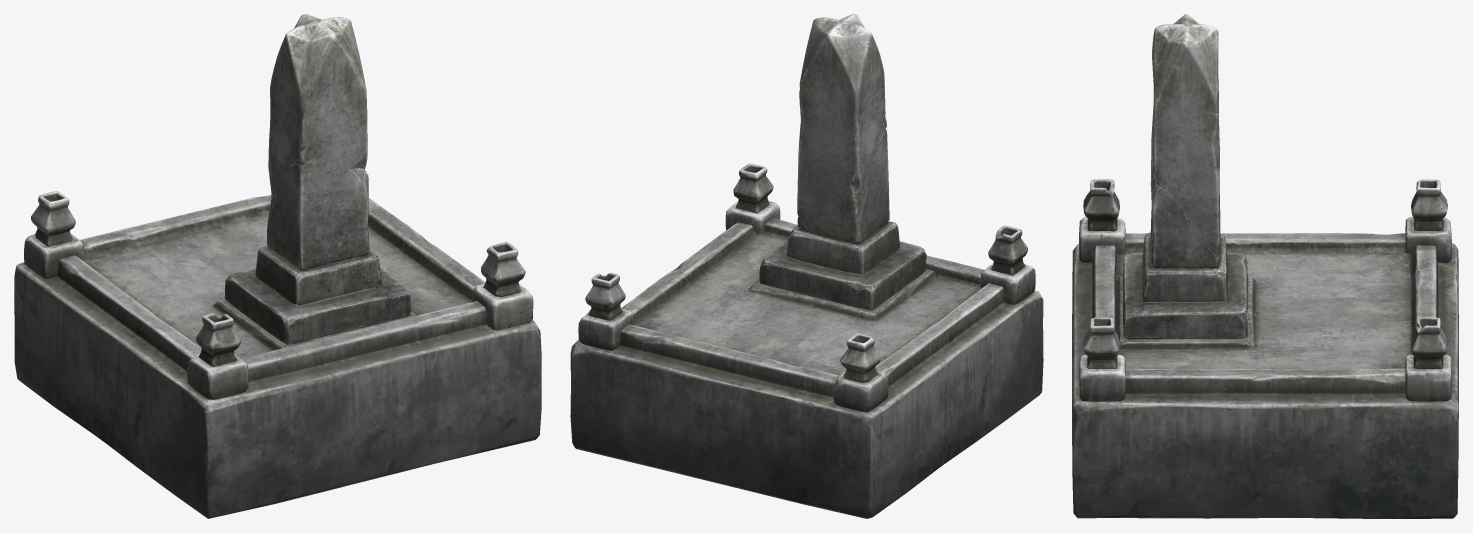
3 renders of one model, left to right at view 1: azimuth 30°, elevation 25°; view 2: azimuth 150°, elevation 25°; view 3: azimuth 270°, elevation 25°, orthographic. The views are drawn at different scales.
Visible parts, largest first — view 1: SM_Tombstone_01v1_LOD0; view 2: SM_Tombstone_01v1_LOD0; view 3: SM_Tombstone_01v1_LOD0.
Part boxes in pixels (left/top/right/bottom): SM_Tombstone_01v1_LOD0: left=14, top=14, right=541, bottom=518; SM_Tombstone_01v1_LOD0: left=570, top=14, right=1043, bottom=518; SM_Tombstone_01v1_LOD0: left=1072, top=14, right=1458, bottom=518.
Size of the model in its own units: 2.7 by 3.21 by 2.7.
Materials: 2 (2 with a texture image).
